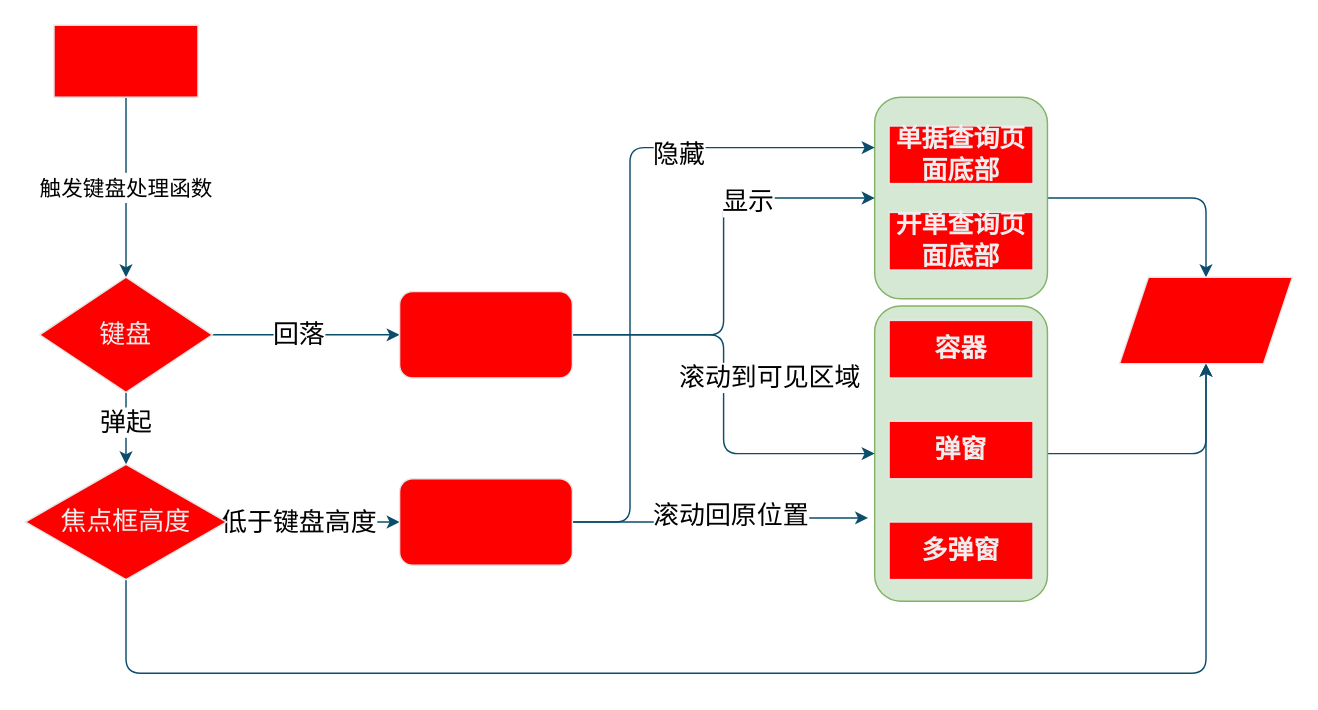
This 1318x710 diagram has some shape labels left out. Each missing label, with the centre of its shape:
"回落处理器" belongs at (485,334).
"弹起处理器" belongs at (485,521).
"结束" belongs at (1205,320).
"键盘检测" belongs at (125,60).
